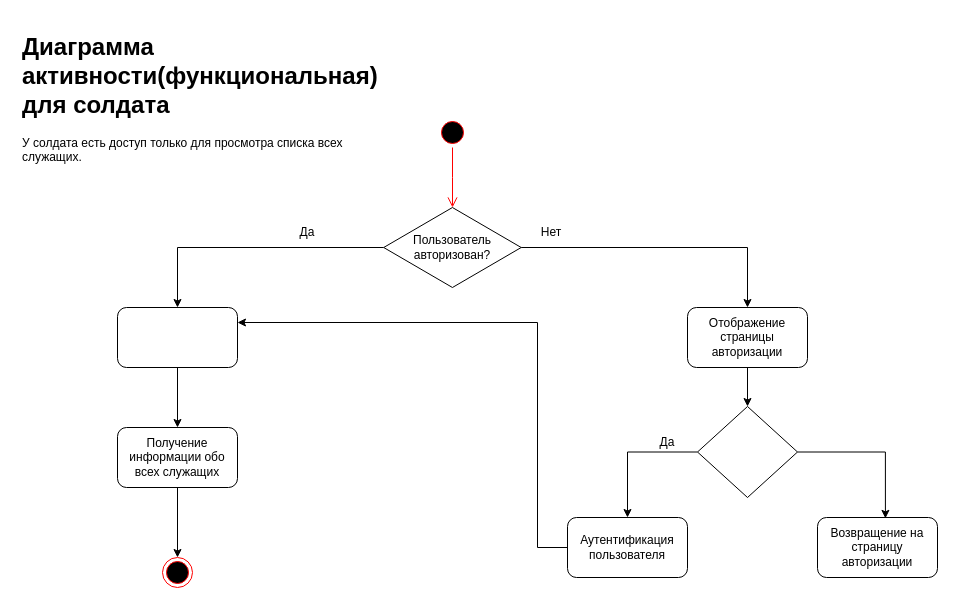
Some shapes in this 955 by 605 pixel diagram are drawn without their labels. The shapes that lost their labels are listed below. From the top down, each one's centre as x and y in pixels, then its label:
At [177,337]: "Отображение главного меню".
At [747,452]: "Введены корректные данные".
